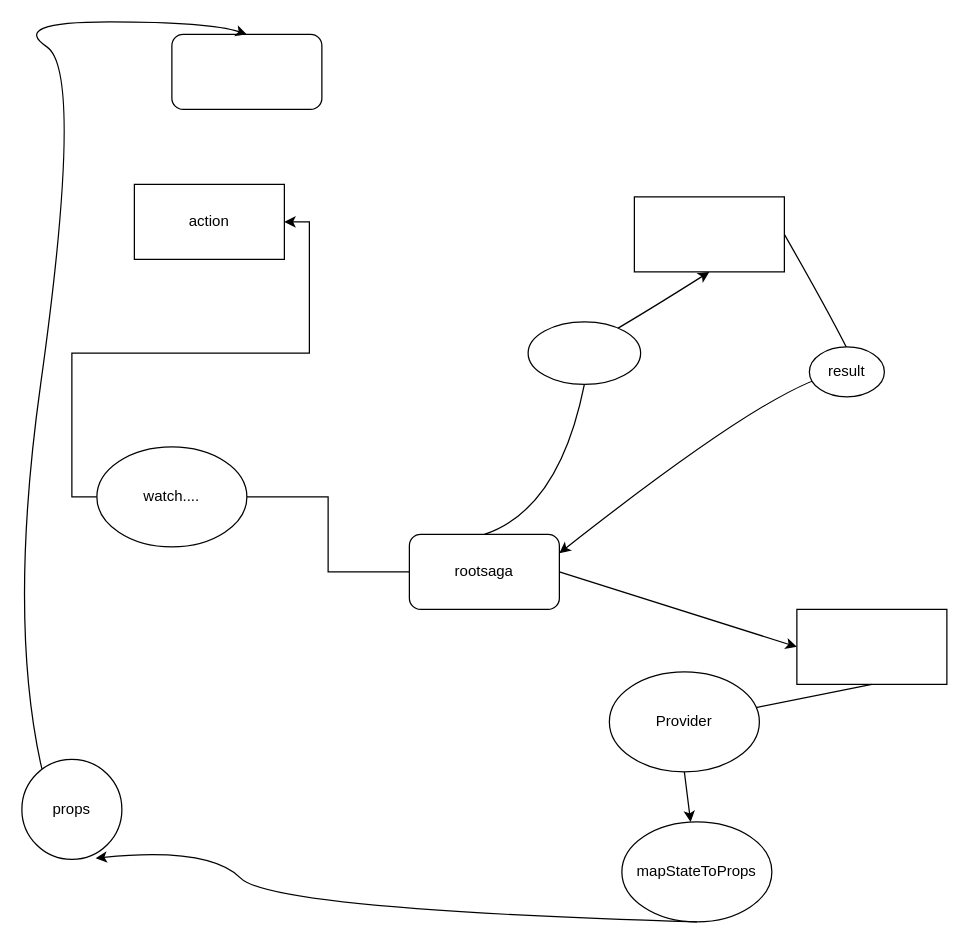
The diagram is 969 pixels wide and 944 high, and some of its shapes have lost their labels. The shapes that lost their labels are listed below. From the top down, each one's centre as x and y in pixels, then its label:
At [246,71]: "Component".
At [708,234]: "API".
At [584,352]: "fetch".
At [871,646]: "reducer(Store)".
